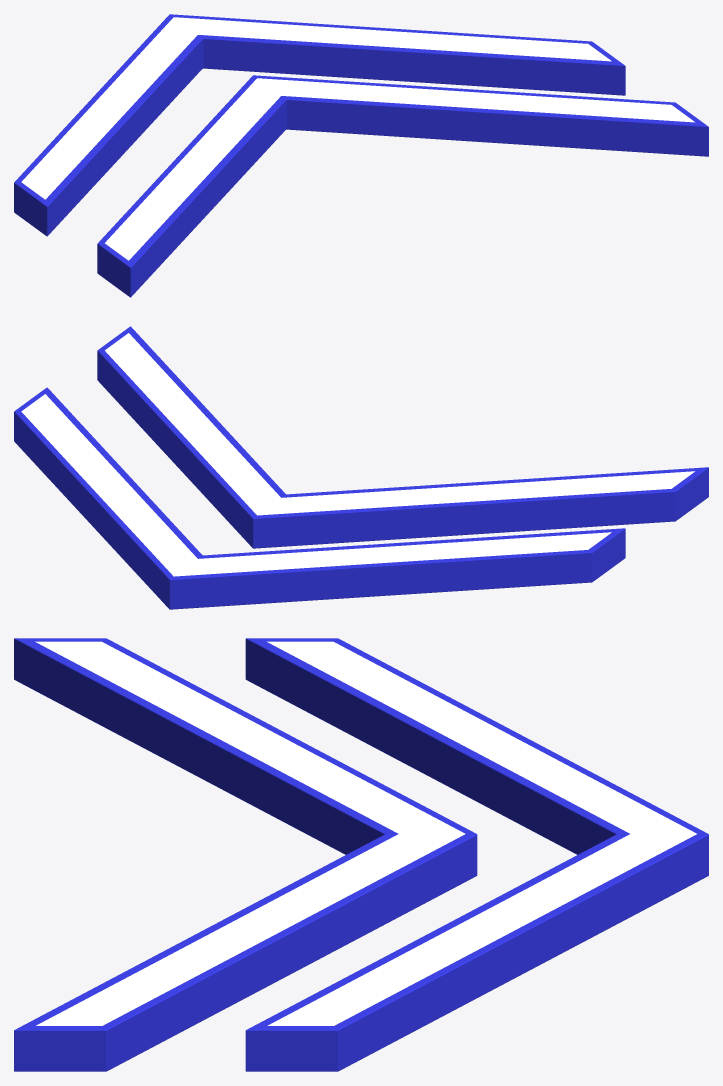
The model's file is guide_arrow.glb.
3 views of the same model, one above another, from view 1: azimuth 30°, elevation 25°; view 2: azimuth 150°, elevation 25°; view 3: azimuth 270°, elevation 25° (orthographic). The views are drawn at different scales.
Visible parts, largest first — view 1: 立方体; view 2: 立方体; view 3: 立方体.
Boxes of the visible parts, <box> form: 立方体: <box>14,14,708,297</box>; 立方体: <box>14,326,708,609</box>; 立方体: <box>14,638,708,1071</box>.
Bounding box in the file's own units: 1 × 0.05 × 0.7489.
